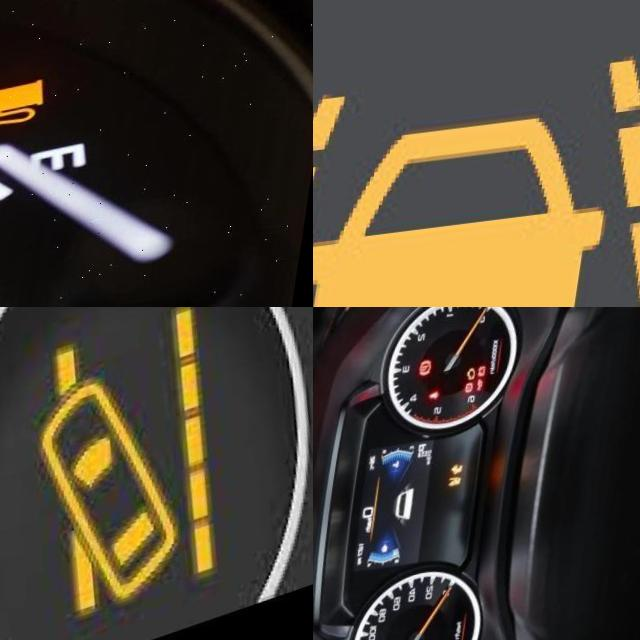Seat Belt: (434, 398, 446, 409)
